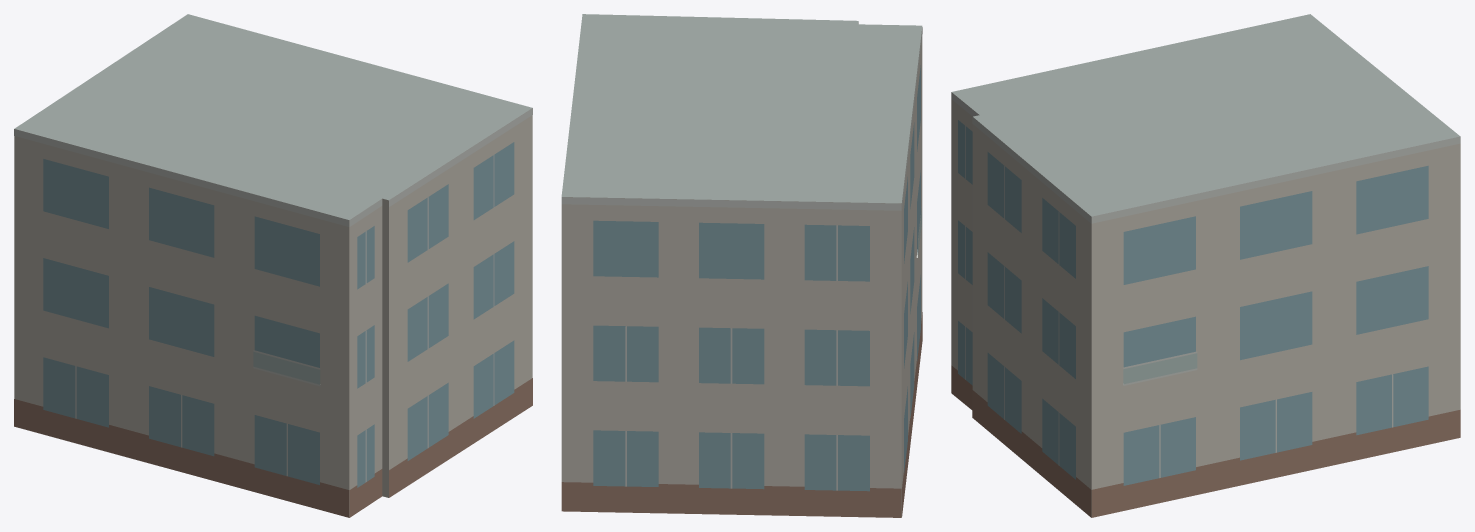
Rendered from survey-upis-32947690.glb.
3 renders of one model, left to right at view 1: azimuth 30°, elevation 25°; view 2: azimuth 150°, elevation 25°; view 3: azimuth 270°, elevation 25°, orthographic. The views are drawn at different scales.
Visible parts, largest first — view 1: survey-upis-32947690.tmp; view 2: survey-upis-32947690.tmp; view 3: survey-upis-32947690.tmp.
Boxes of the visible parts, x1=… form: survey-upis-32947690.tmp: x1=14, y1=14, x2=532, y2=517; survey-upis-32947690.tmp: x1=561, y1=14, x2=922, y2=517; survey-upis-32947690.tmp: x1=951, y1=14, x2=1460, y2=517.
Bounding box in the file's own units: 14.97 × 10.37 × 15.9.
